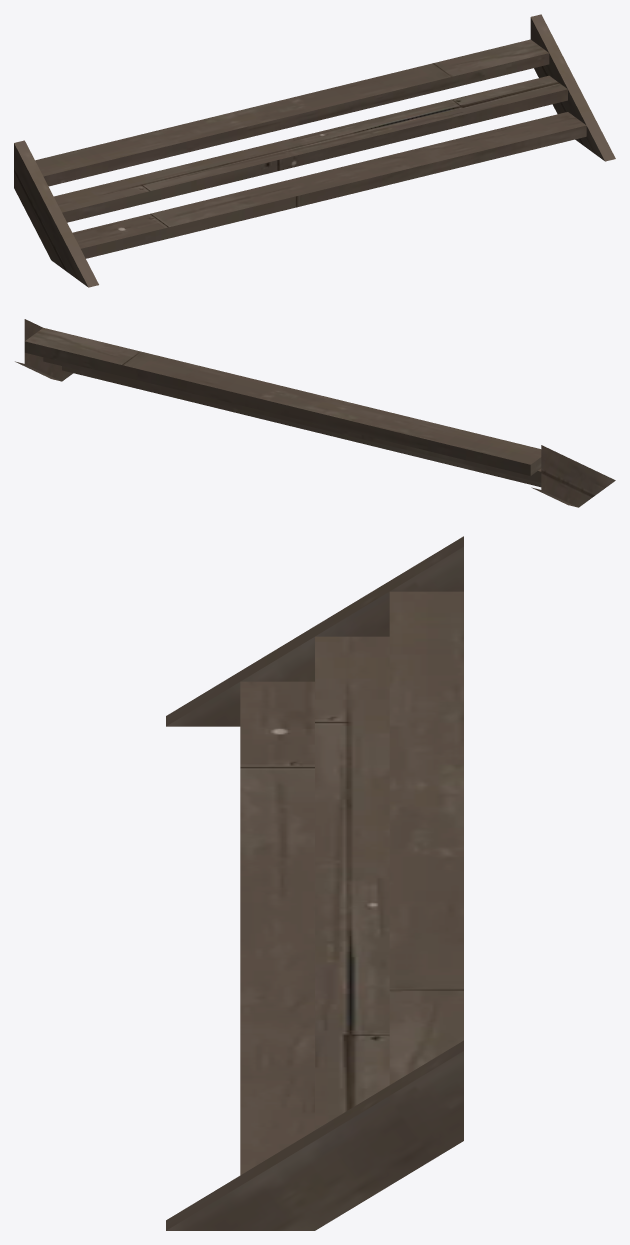
3 renders of one model, top to bottom at view 1: azimuth 30°, elevation 25°; view 2: azimuth 150°, elevation 25°; view 3: azimuth 270°, elevation 25°, orthographic. The views are drawn at different scales.
Visible parts, largest first — view 1: body0_model0_lod0_mesh0; view 2: body0_model0_lod0_mesh0; view 3: body0_model0_lod0_mesh0.
Part boxes in pixels (x1,y1,x2,y2): body0_model0_lod0_mesh0: [14, 14, 615, 287]; body0_model0_lod0_mesh0: [15, 319, 615, 507]; body0_model0_lod0_mesh0: [166, 536, 463, 1230].
Size of the model in its own units: 196 by 31.99 by 48.
Materials: 1 (1 with a texture image).
